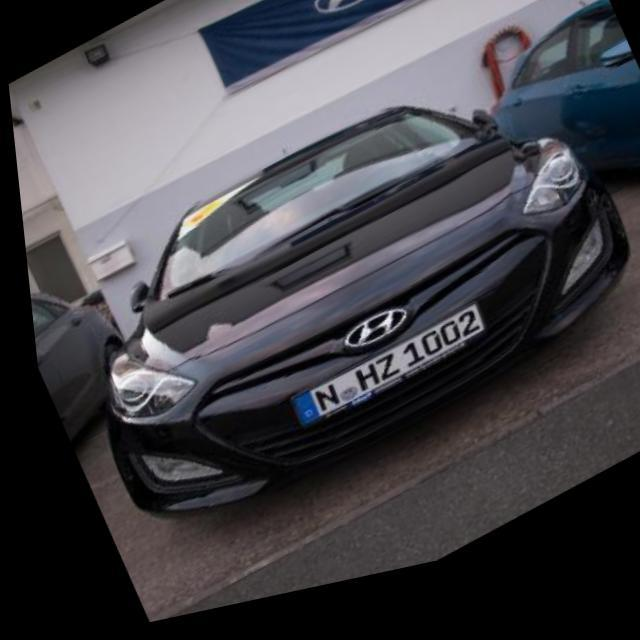license_plate: (274, 315, 486, 446)
